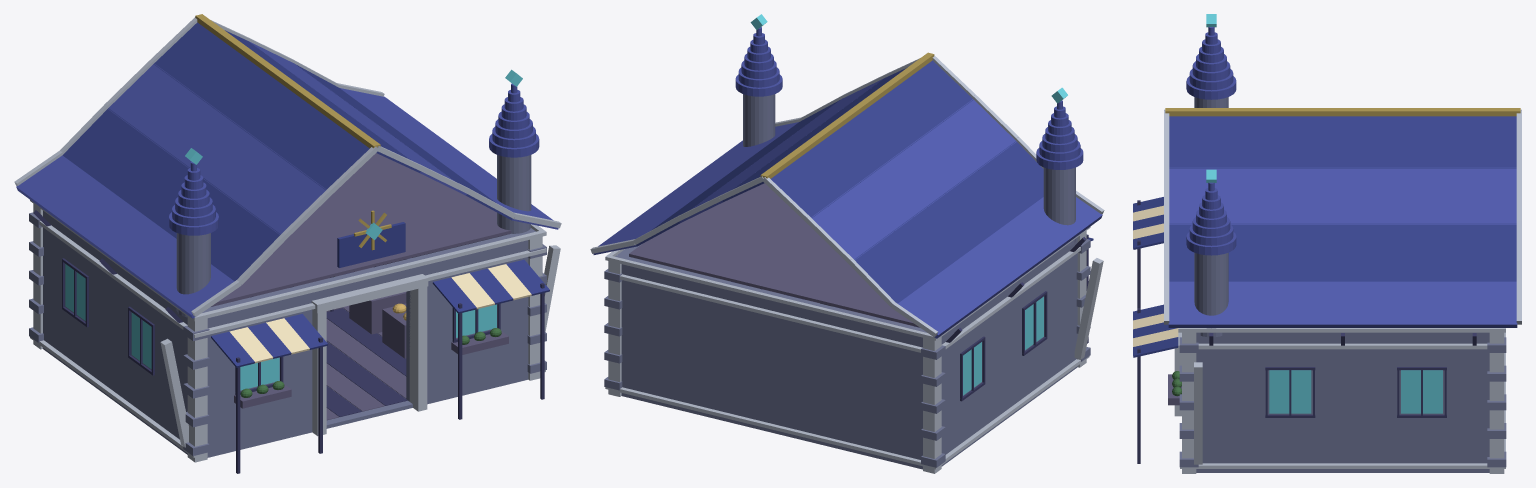
The model's file is Market.glb.
3 views of the same model, side by side, from view 1: azimuth 30°, elevation 25°; view 2: azimuth 150°, elevation 25°; view 3: azimuth 270°, elevation 25° (orthographic). The views are drawn at different scales.
Parts seen in each view (by area): view 1: Market_095_Ceiling, Market_002_Side, Market_272_ProfileRoof, Market_269_ProfileRoof, Market_275_ProfileRoof, Market_278_ProfileRoof, Market_003_FrontWing, Market_040_FrontWing, Market_290_ProfileRoof, Market_085_FrontCourse, Market_041_DoorJamb, Market_293_Ridge (+43 smaller); view 2: Market_001_Rear, Market_095_Ceiling, Market_002_Side, Market_272_ProfileRoof, Market_275_ProfileRoof, Market_269_ProfileRoof, Market_278_ProfileRoof, Market_290_ProfileRoof, Market_086_RearCourse, Market_078_RearCourse, Market_293_Ridge, Market_082_RearCourse (+14 smaller); view 3: Market_039_Side, Market_284_ProfileRoof, Market_281_ProfileRoof, Market_287_ProfileRoof, Market_290_ProfileRoof, Market_293_Ridge, Market_305_ObservatoryTurret, Market_084_SideCourse, Market_060_SideWindow, Market_080_SideCourse, Market_054_SideWindow, Market_088_SideCourse (+13 smaller).
Part boxes in pixels (x1=…): Market_095_Ceiling: x1=211, y1=153, x2=511, y2=306; Market_002_Side: x1=44, y1=211, x2=203, y2=453; Market_272_ProfileRoof: x1=108, y1=63, x2=326, y2=234; Market_269_ProfileRoof: x1=153, y1=22, x2=369, y2=190; Market_275_ProfileRoof: x1=62, y1=108, x2=280, y2=281; Market_278_ProfileRoof: x1=16, y1=155, x2=234, y2=318; Market_003_FrontWing: x1=204, y1=281, x2=321, y2=457; Market_040_FrontWing: x1=406, y1=233, x2=528, y2=402; Market_290_ProfileRoof: x1=340, y1=88, x2=558, y2=229; Market_085_FrontCourse: x1=193, y1=230, x2=546, y2=321; Market_041_DoorJamb: x1=409, y1=286, x2=427, y2=411; Market_293_Ridge: x1=195, y1=14, x2=380, y2=148; Market_001_Rear: x1=615, y1=254, x2=927, y2=469; Market_095_Ceiling: x1=629, y1=183, x2=919, y2=327; Market_002_Side: x1=941, y1=237, x2=1077, y2=462; Market_272_ProfileRoof: x1=811, y1=99, x2=1016, y2=259; Market_275_ProfileRoof: x1=854, y1=141, x2=1043, y2=303; Market_269_ProfileRoof: x1=771, y1=60, x2=973, y2=217; Market_278_ProfileRoof: x1=898, y1=197, x2=1102, y2=338; Market_290_ProfileRoof: x1=593, y1=122, x2=798, y2=254; Market_086_RearCourse: x1=605, y1=256, x2=938, y2=340; Market_078_RearCourse: x1=605, y1=387, x2=938, y2=469; Market_293_Ridge: x1=760, y1=52, x2=934, y2=178; Market_082_RearCourse: x1=620, y1=274, x2=922, y2=352; Market_039_Side: x1=1196, y1=332, x2=1489, y2=472; Market_284_ProfileRoof: x1=1169, y1=167, x2=1516, y2=224; Market_281_ProfileRoof: x1=1169, y1=116, x2=1516, y2=168; Market_287_ProfileRoof: x1=1169, y1=223, x2=1516, y2=281; Market_290_ProfileRoof: x1=1168, y1=281, x2=1517, y2=327; Market_293_Ridge: x1=1165, y1=108, x2=1520, y2=116; Market_305_ObservatoryTurret: x1=1194, y1=252, x2=1228, y2=337; Market_084_SideCourse: x1=1198, y1=343, x2=1487, y2=349; Market_060_SideWindow: x1=1269, y1=370, x2=1311, y2=413; Market_080_SideCourse: x1=1180, y1=463, x2=1504, y2=468; Market_054_SideWindow: x1=1401, y1=370, x2=1442, y2=413; Market_088_SideCourse: x1=1180, y1=328, x2=1505, y2=332.
Size of the model in its own units: 34.64 by 24.97 by 29.56.
